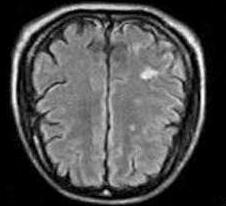Normal_Brain: (1, 1, 226, 206)
